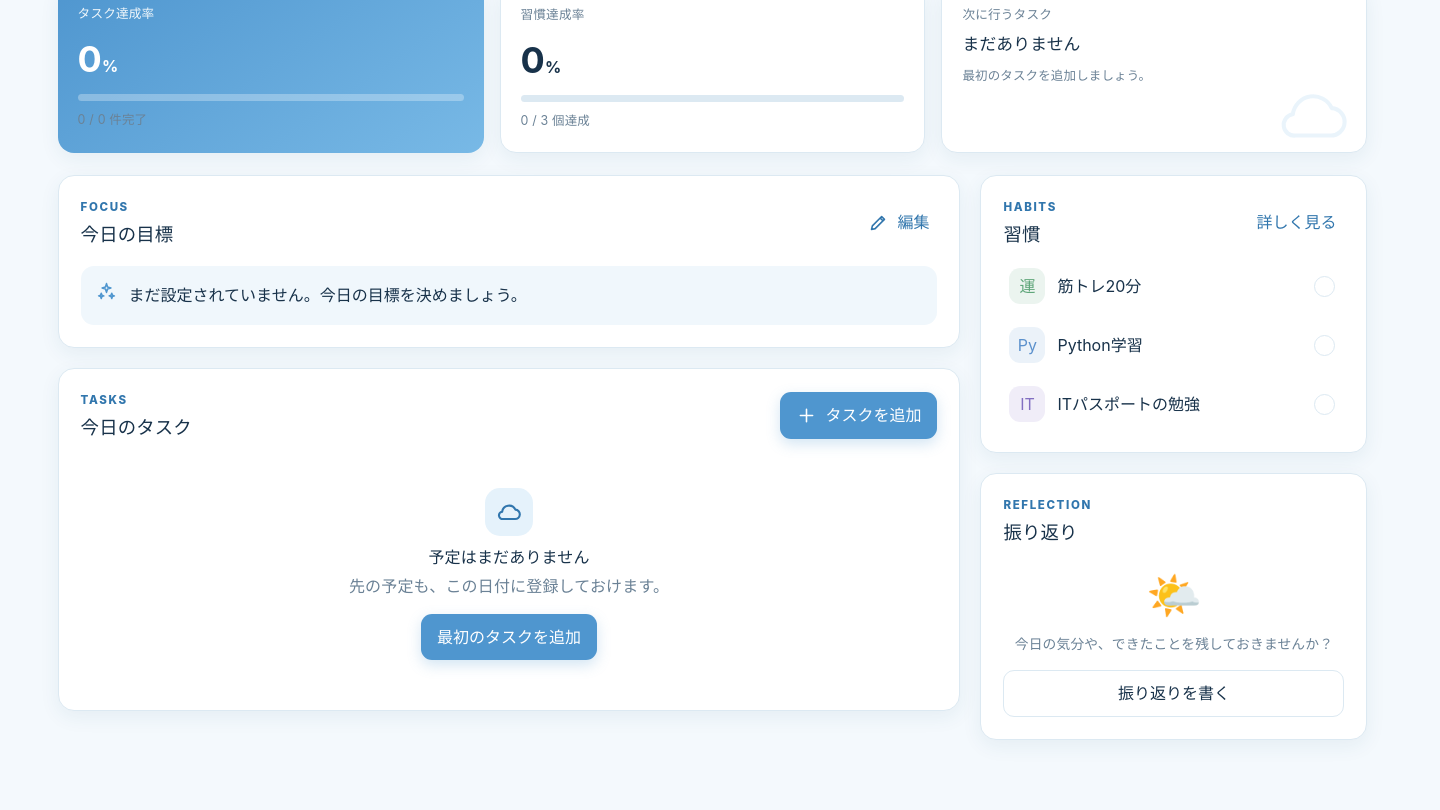
今日画面の主要操作 › タスクを追加して画面へ反映する
(page scrolled)
Click the button "最初のタスクを追加" at (509, 637), box [421,614,597,660]
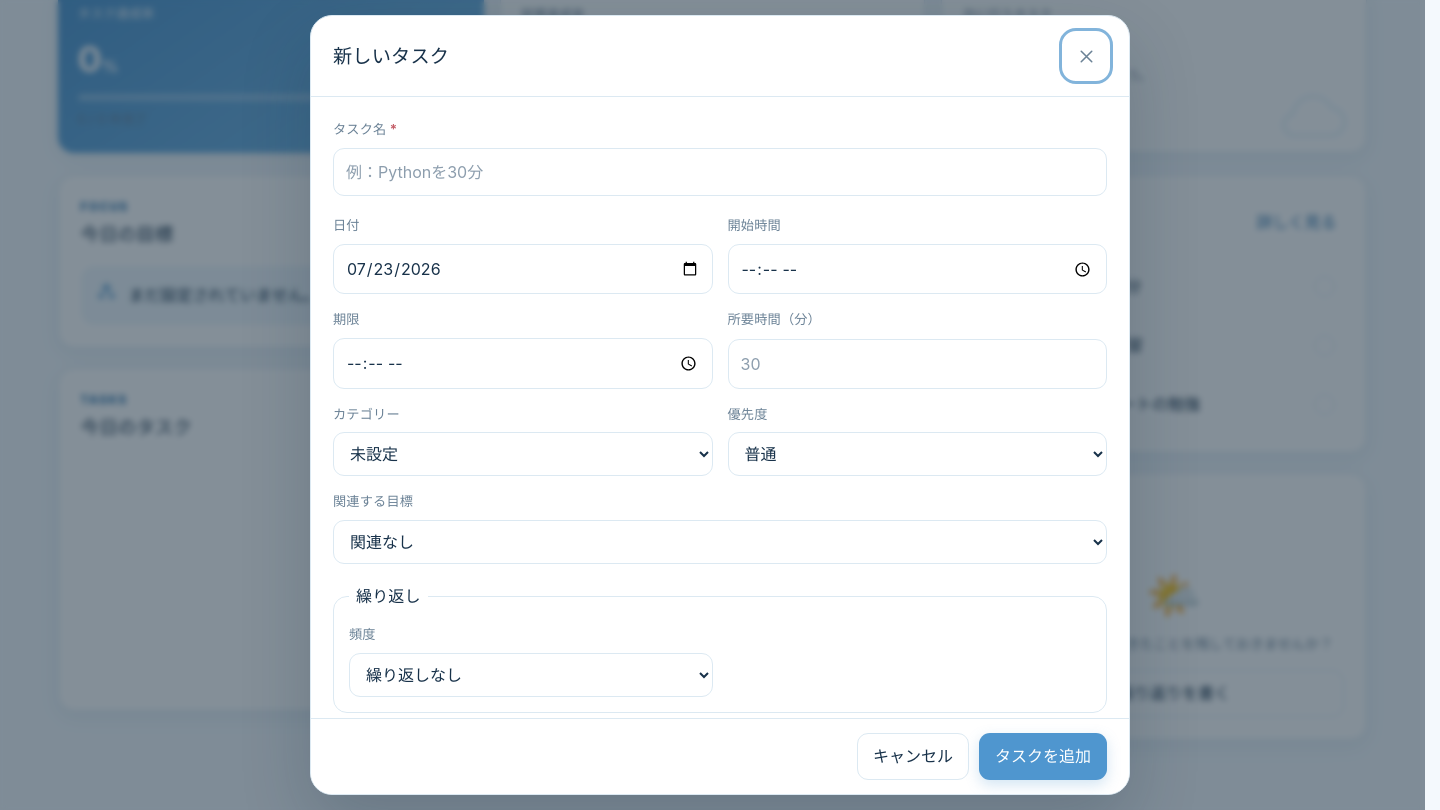
Type "レポートを書く" into the field with placeholder "例：Pythonを30分" at (720, 172), box [333,148,1107,196]
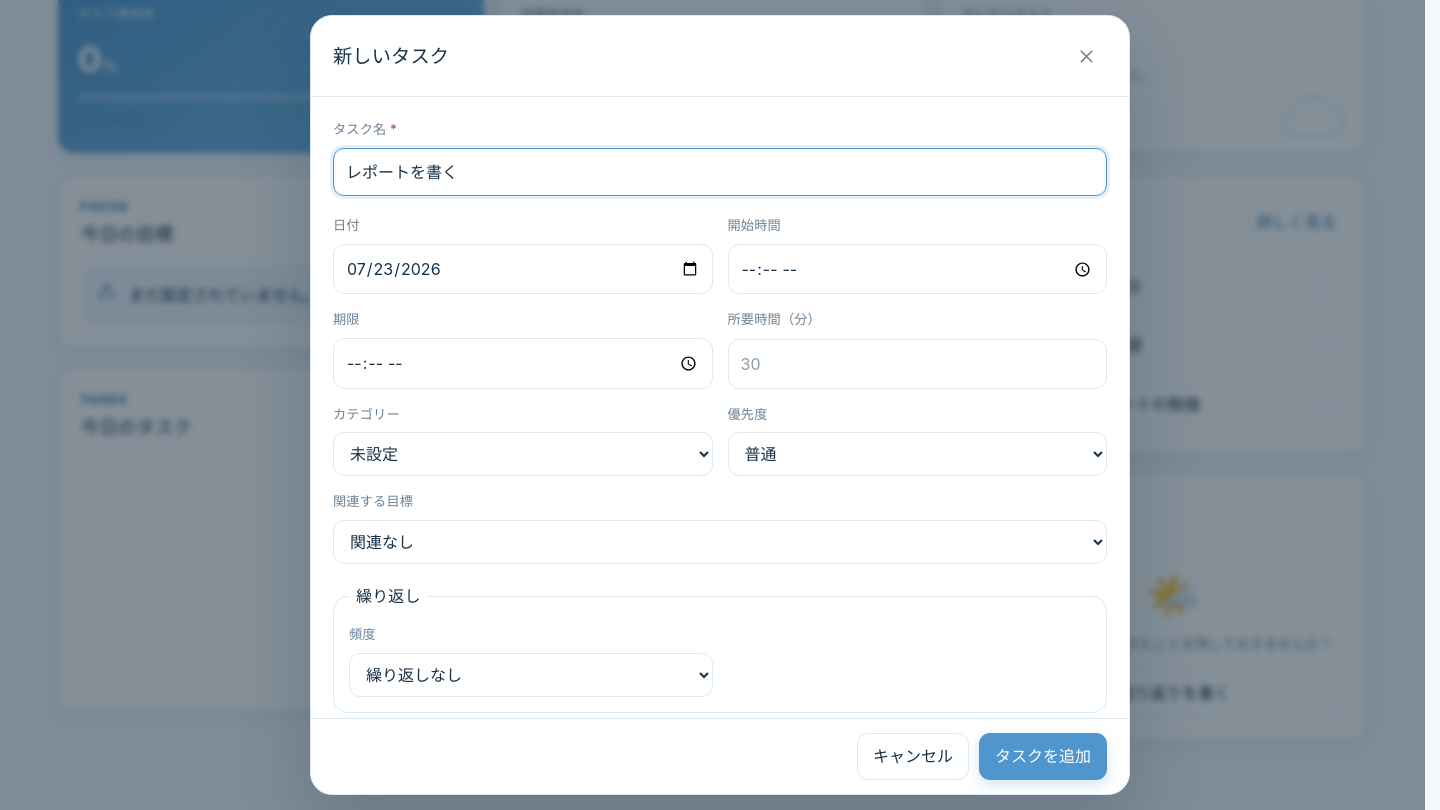
Click the button "タスクを追加" at (1043, 757), box [979,734,1107,780]
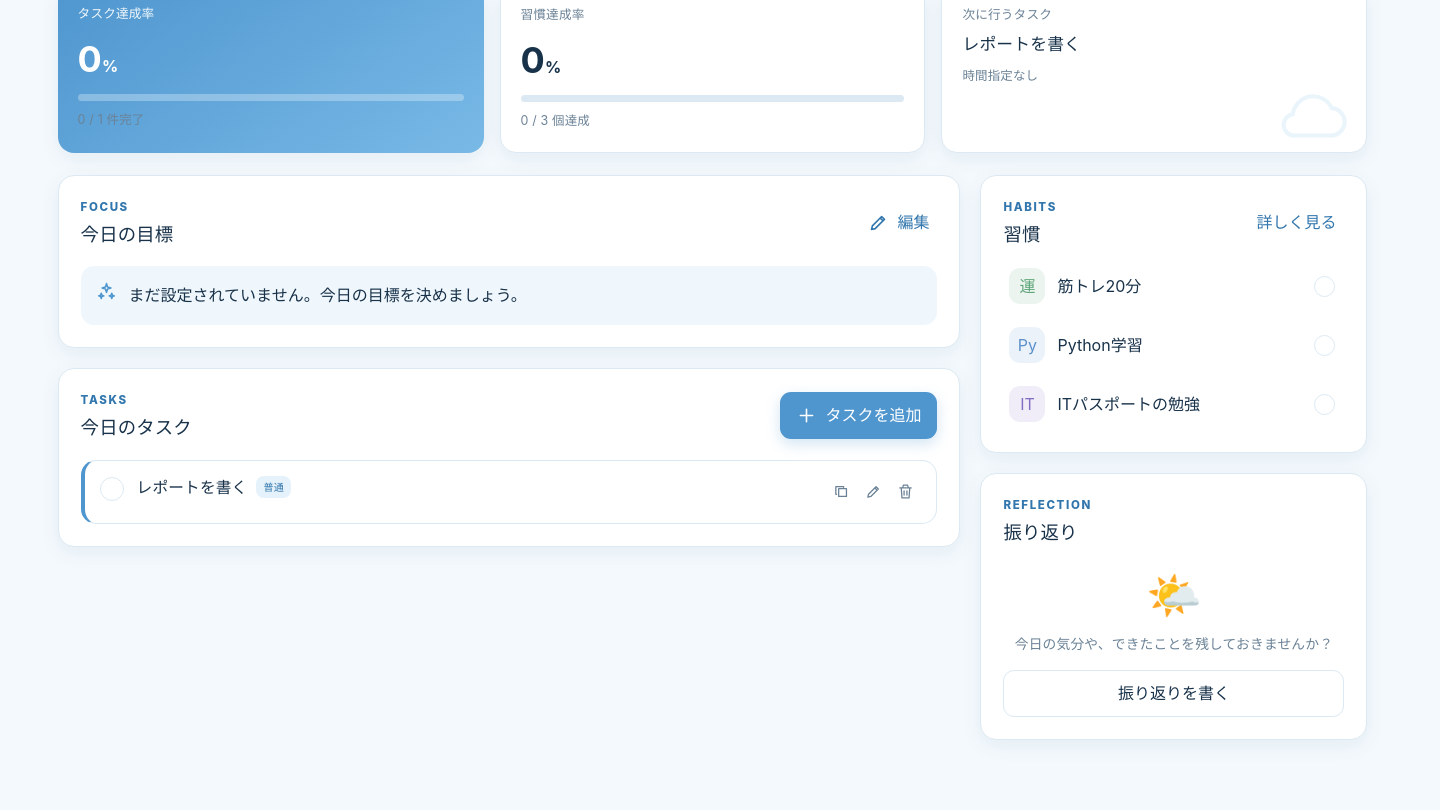
Check: the text "レポートを書く" is shown 2 times, box [962,34,1081,54]; [137,476,247,499]
Check: the text "0 / 1 件完了" is shown, box [78,112,144,127]
